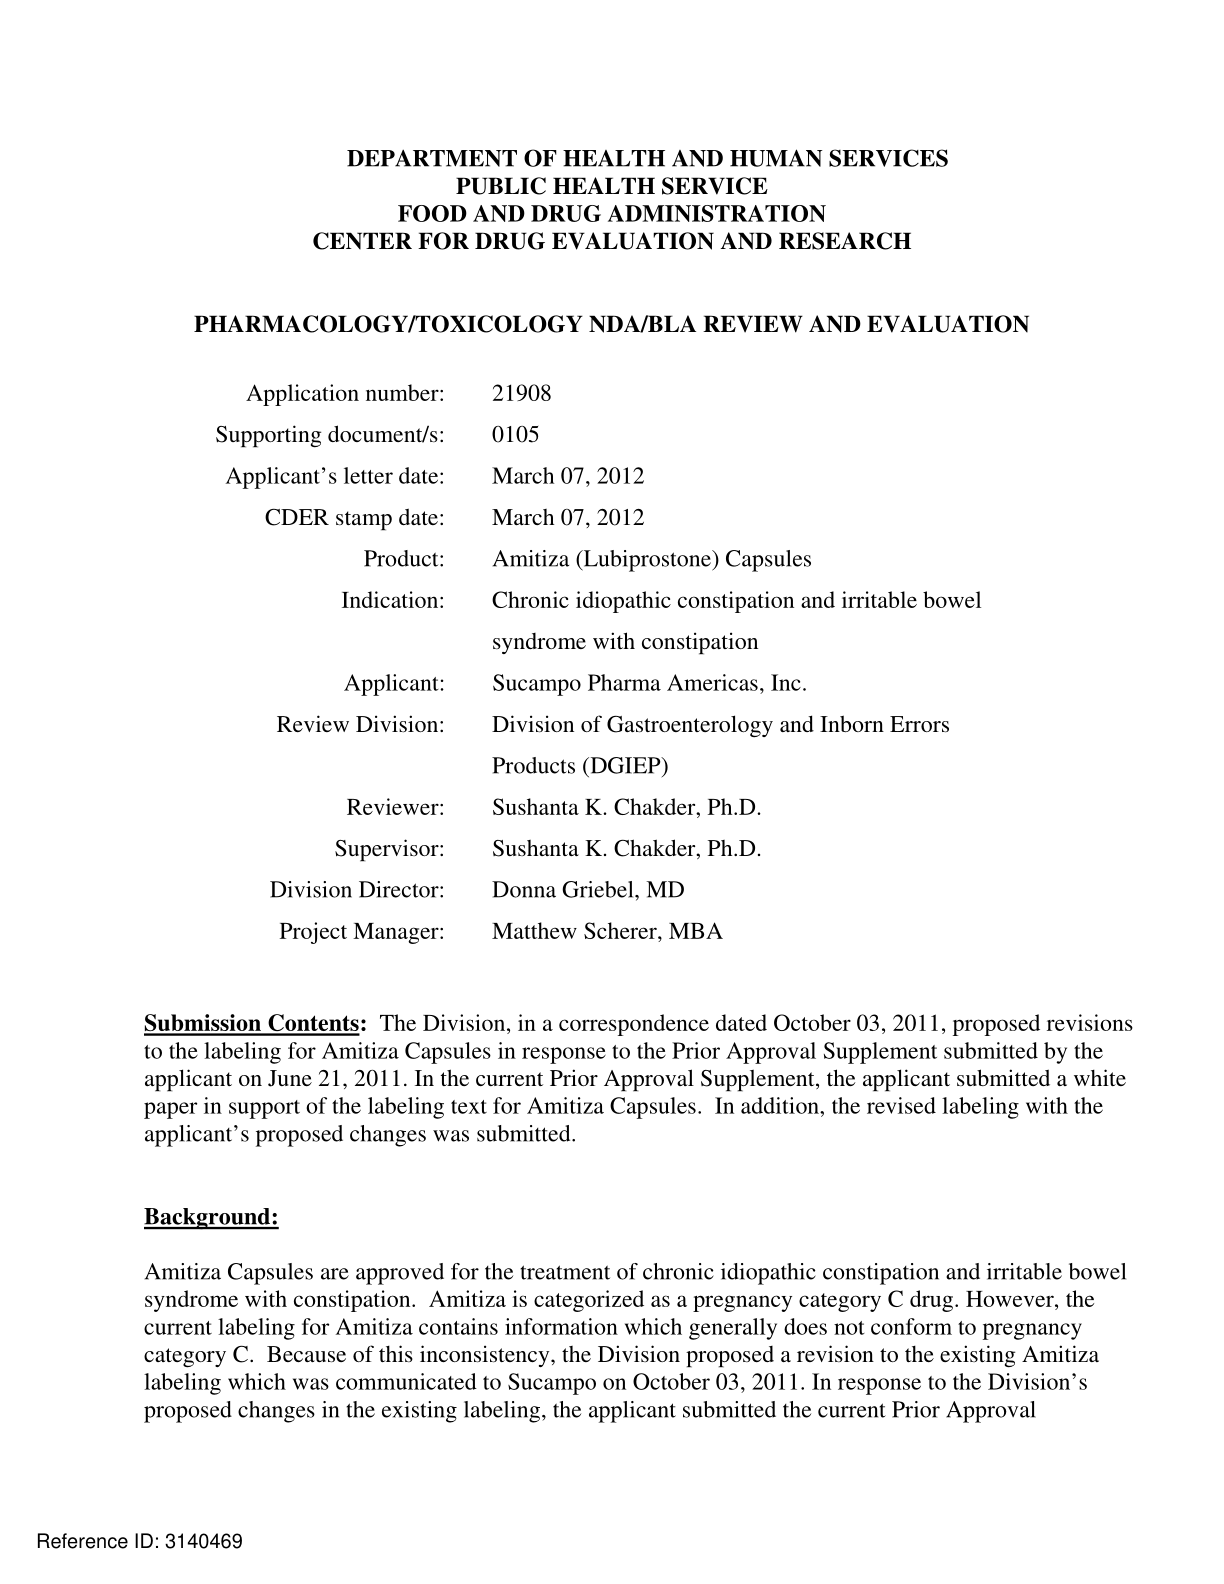nolines: (211, 375, 987, 948)
